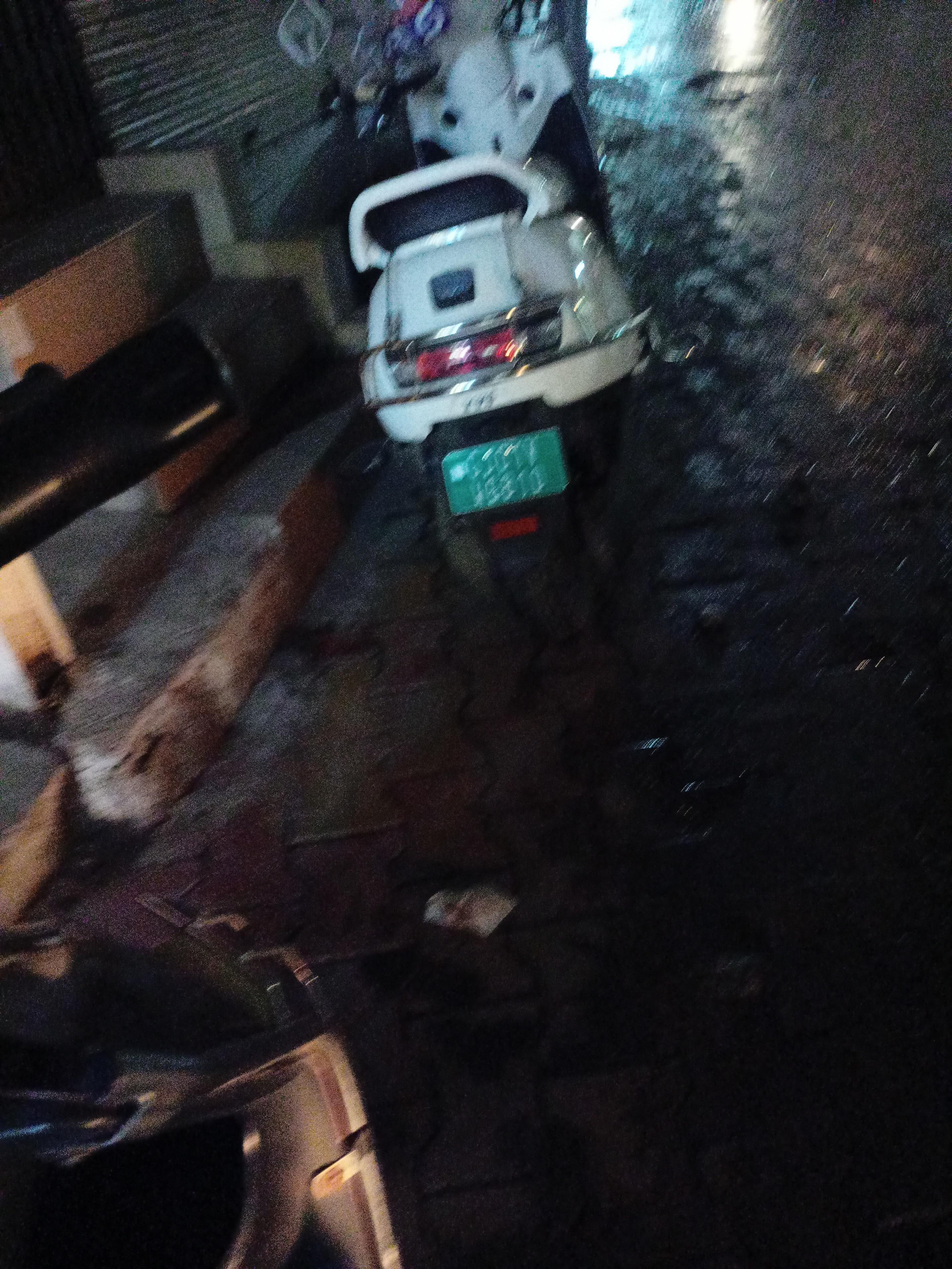green license plate: (437, 426, 572, 519)
